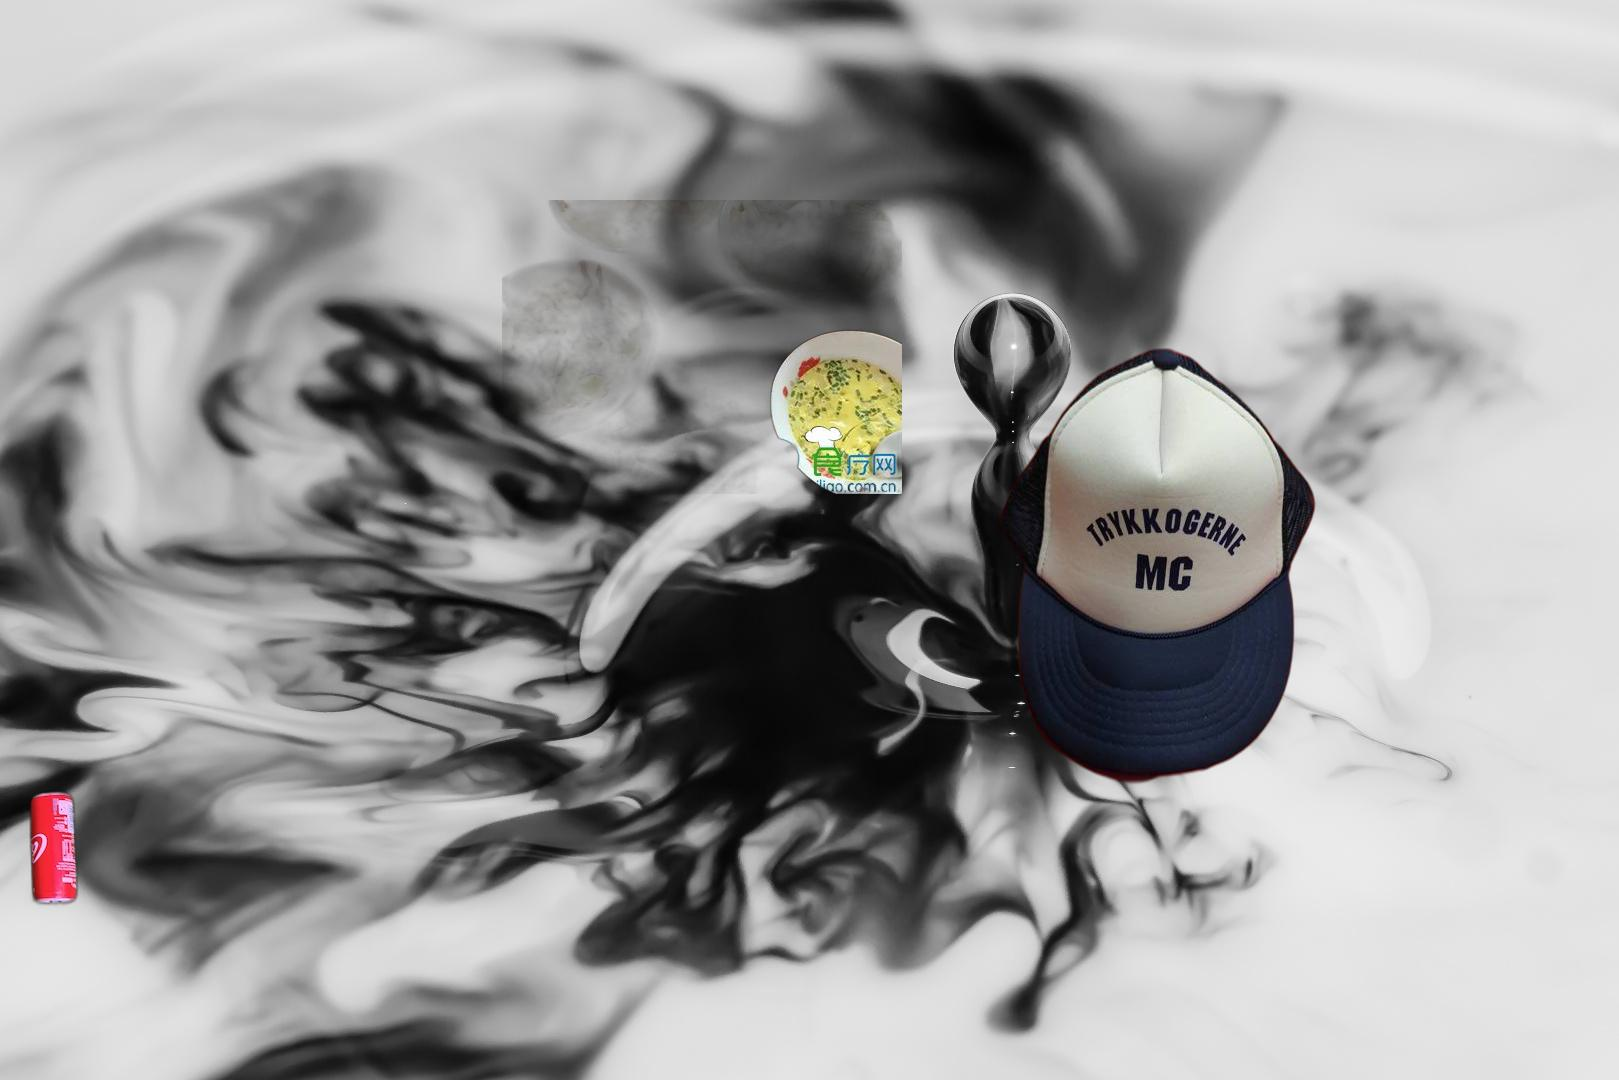biological: (501, 200, 902, 494)
clothes: (998, 345, 1318, 788)
metal-cans: (27, 786, 81, 910)
